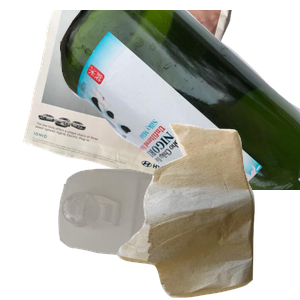glass: (60, 10, 300, 190)
paper: (20, 10, 244, 190)
plastic: (56, 166, 241, 300)
trash: (114, 121, 300, 300)
